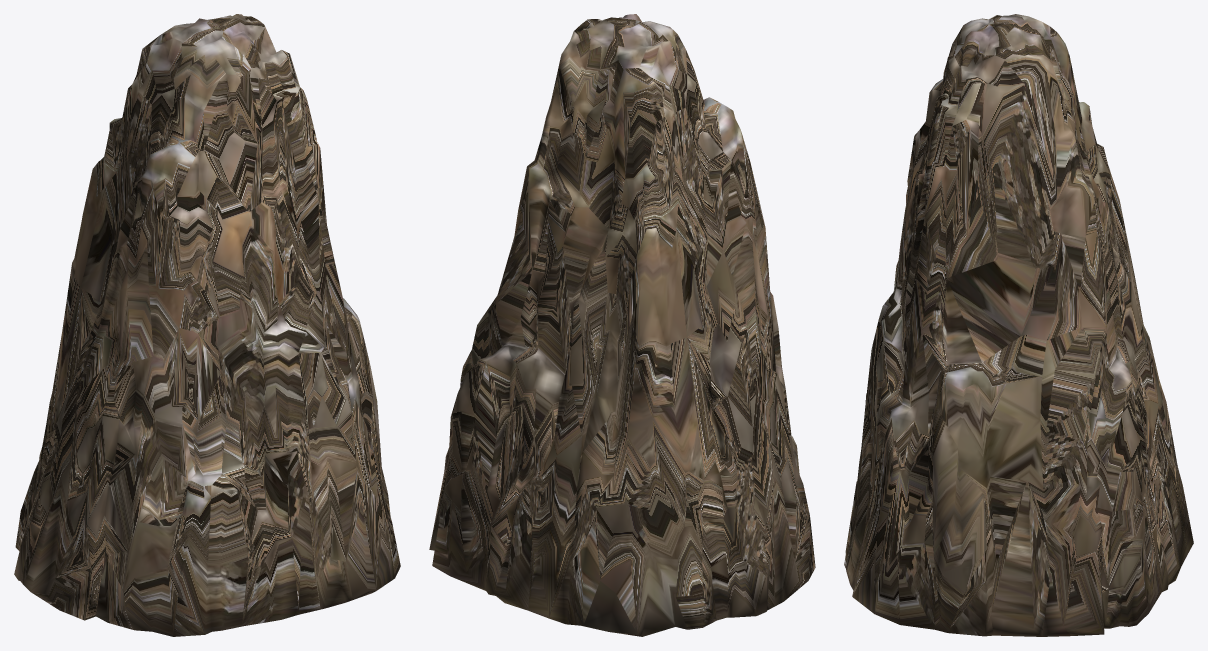
Rendered from Sentinel_Peak.glb.
3 views of the same model, side by side, from view 1: azimuth 30°, elevation 25°; view 2: azimuth 150°, elevation 25°; view 3: azimuth 270°, elevation 25° (orthographic).
Parts seen in each view (by area): view 1: Sentinel_Peak; view 2: Sentinel_Peak; view 3: Sentinel_Peak.
Part boxes in pixels (x1,y1,x2,y2): Sentinel_Peak: (14,14,400,636); Sentinel_Peak: (429,14,815,636); Sentinel_Peak: (844,14,1193,636).
Bounding box in the file's own units: 1.27 × 1.99 × 1.17.
1 material, 1 textured.
